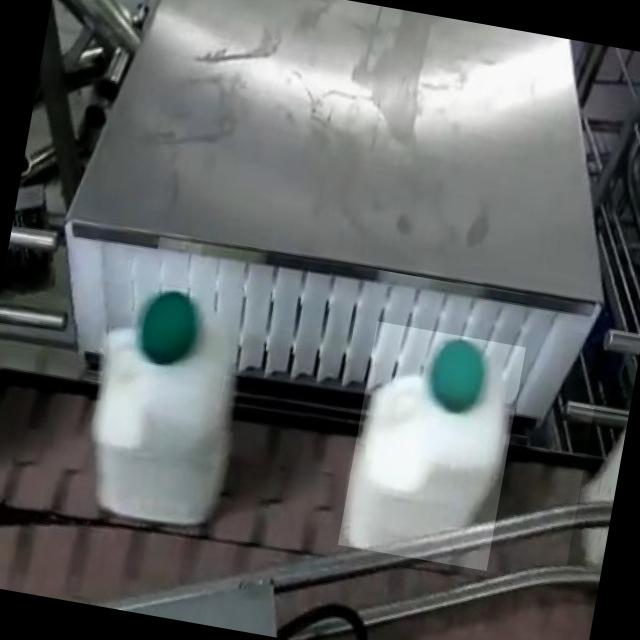milk: (79, 278, 278, 551), (342, 314, 532, 588)
